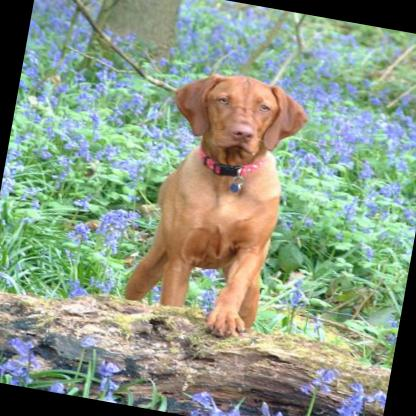vizsla: (116, 58, 312, 344)
